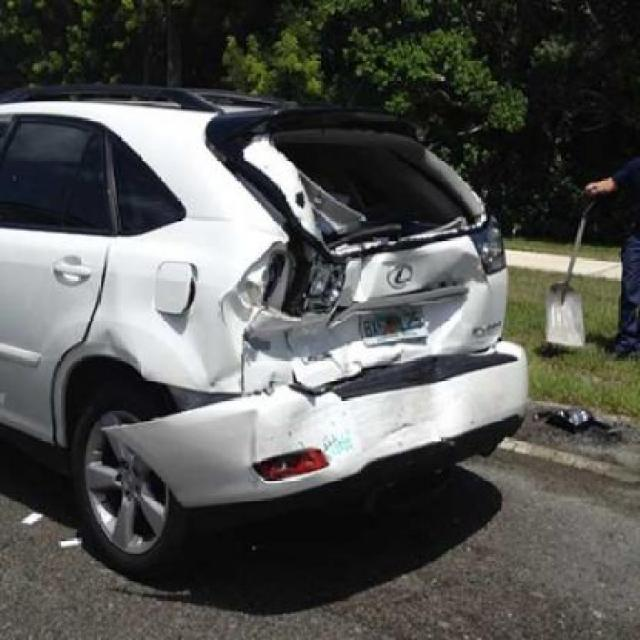minor: (291, 386, 440, 482), (111, 291, 235, 392)
severe: (205, 115, 509, 397)
